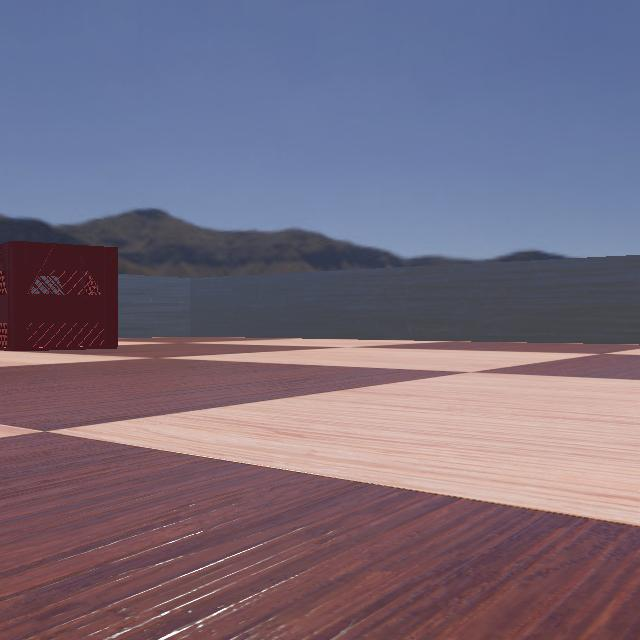plastic-crate: (0, 239, 138, 351)
